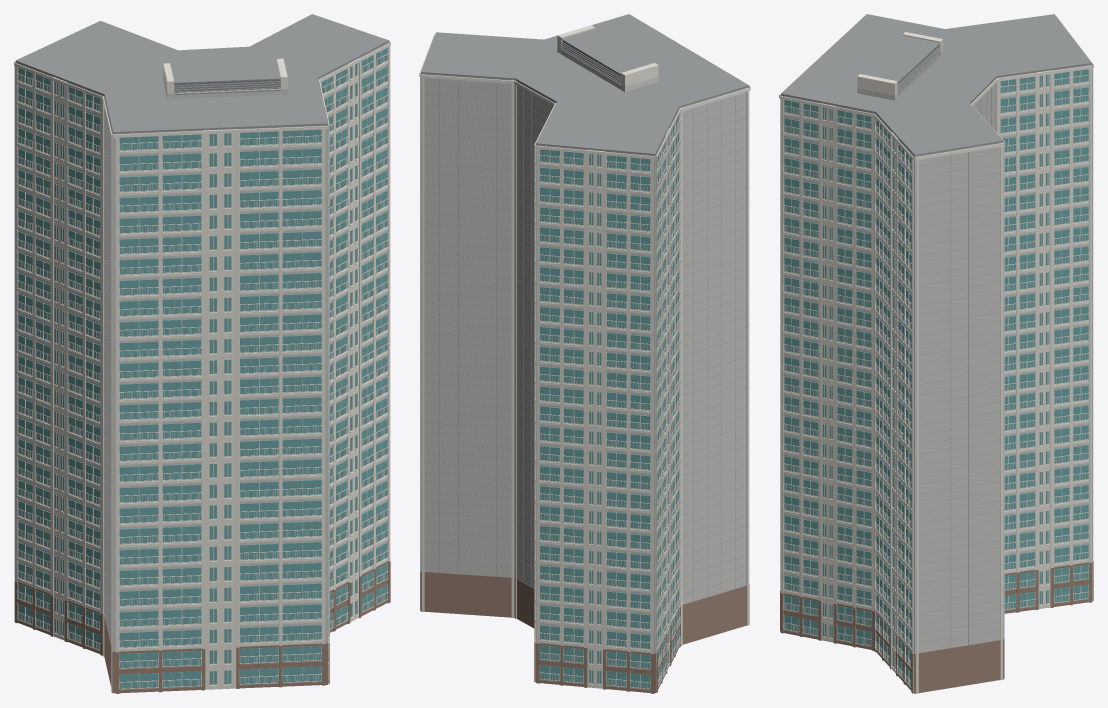
The model's file is bespoke-jamsil-els-166.glb.
3 views of the same model, side by side, from view 1: azimuth 30°, elevation 25°; view 2: azimuth 150°, elevation 25°; view 3: azimuth 270°, elevation 25° (orthographic). The views are drawn at different scales.
Parts seen in each view (by area): view 1: Els166_editable_Els166_turquoise_balcony_glazing, Els166_white_exact_chunk_2, Els166_editable_Els166_light_grey_solid_wall, Els166_white_exact_chunk_3, Els166_editable_Els166_modest_grey_flat_roof_caps, Els166_white_exact_chunk_1, Els166_white_exact_chunk_5, Els166_white_exact_chunk_4, Els166_white_exact_chunk_6, Els166_editable_Els166_muted_ground_wall, Els166_editable_Els166_narrow_charcoal_service_strips; view 2: Els166_editable_Els166_light_grey_solid_wall, Els166_editable_Els166_turquoise_balcony_glazing, Els166_editable_Els166_modest_grey_flat_roof_caps, Els166_white_exact_chunk_0, Els166_white_exact_chunk_1, Els166_editable_Els166_muted_ground_wall, Els166_white_exact_chunk_2, Els166_white_exact_chunk_6, Els166_white_exact_chunk_7; view 3: Els166_editable_Els166_turquoise_balcony_glazing, Els166_editable_Els166_light_grey_solid_wall, Els166_white_exact_chunk_6, Els166_editable_Els166_modest_grey_flat_roof_caps, Els166_white_exact_chunk_4, Els166_white_exact_chunk_5, Els166_white_exact_chunk_7, Els166_editable_Els166_muted_ground_wall, Els166_white_exact_chunk_0.
Boxes of the visible parts, bbox=[...] form: Els166_editable_Els166_turquoise_balcony_glazing: bbox=[18, 48, 387, 688]; Els166_white_exact_chunk_2: bbox=[14, 63, 237, 692]; Els166_editable_Els166_light_grey_solid_wall: bbox=[16, 42, 389, 669]; Els166_white_exact_chunk_3: bbox=[116, 130, 321, 689]; Els166_editable_Els166_modest_grey_flat_roof_caps: bbox=[15, 14, 389, 643]; Els166_white_exact_chunk_1: bbox=[14, 61, 82, 643]; Els166_white_exact_chunk_5: bbox=[318, 58, 374, 629]; Els166_white_exact_chunk_4: bbox=[113, 99, 329, 688]; Els166_white_exact_chunk_6: bbox=[318, 41, 390, 616]; Els166_editable_Els166_muted_ground_wall: bbox=[14, 561, 390, 693]; Els166_editable_Els166_narrow_charcoal_service_strips: bbox=[174, 79, 280, 91]; Els166_editable_Els166_light_grey_solid_wall: bbox=[421, 47, 748, 668]; Els166_editable_Els166_turquoise_balcony_glazing: bbox=[540, 116, 678, 688]; Els166_editable_Els166_modest_grey_flat_roof_caps: bbox=[420, 14, 749, 604]; Els166_white_exact_chunk_0: bbox=[536, 145, 650, 689]; Els166_white_exact_chunk_1: bbox=[535, 128, 675, 692]; Els166_editable_Els166_muted_ground_wall: bbox=[420, 571, 749, 693]; Els166_white_exact_chunk_2: bbox=[656, 87, 750, 665]; Els166_white_exact_chunk_6: bbox=[419, 34, 555, 618]; Els166_white_exact_chunk_7: bbox=[534, 25, 658, 681]; Els166_editable_Els166_turquoise_balcony_glazing: bbox=[784, 69, 1088, 686]; Els166_editable_Els166_light_grey_solid_wall: bbox=[781, 51, 1091, 653]; Els166_white_exact_chunk_6: bbox=[874, 70, 1069, 693]; Els166_editable_Els166_modest_grey_flat_roof_caps: bbox=[781, 14, 1091, 653]; Els166_white_exact_chunk_4: bbox=[779, 16, 864, 642]; Els166_white_exact_chunk_5: bbox=[780, 96, 903, 678]; Els166_white_exact_chunk_7: bbox=[857, 32, 1092, 602]; Els166_editable_Els166_muted_ground_wall: bbox=[780, 561, 1093, 693]; Els166_white_exact_chunk_0: bbox=[1092, 63, 1093, 600].
Size of the model in its own units: 40.67 by 73.95 by 37.97.
